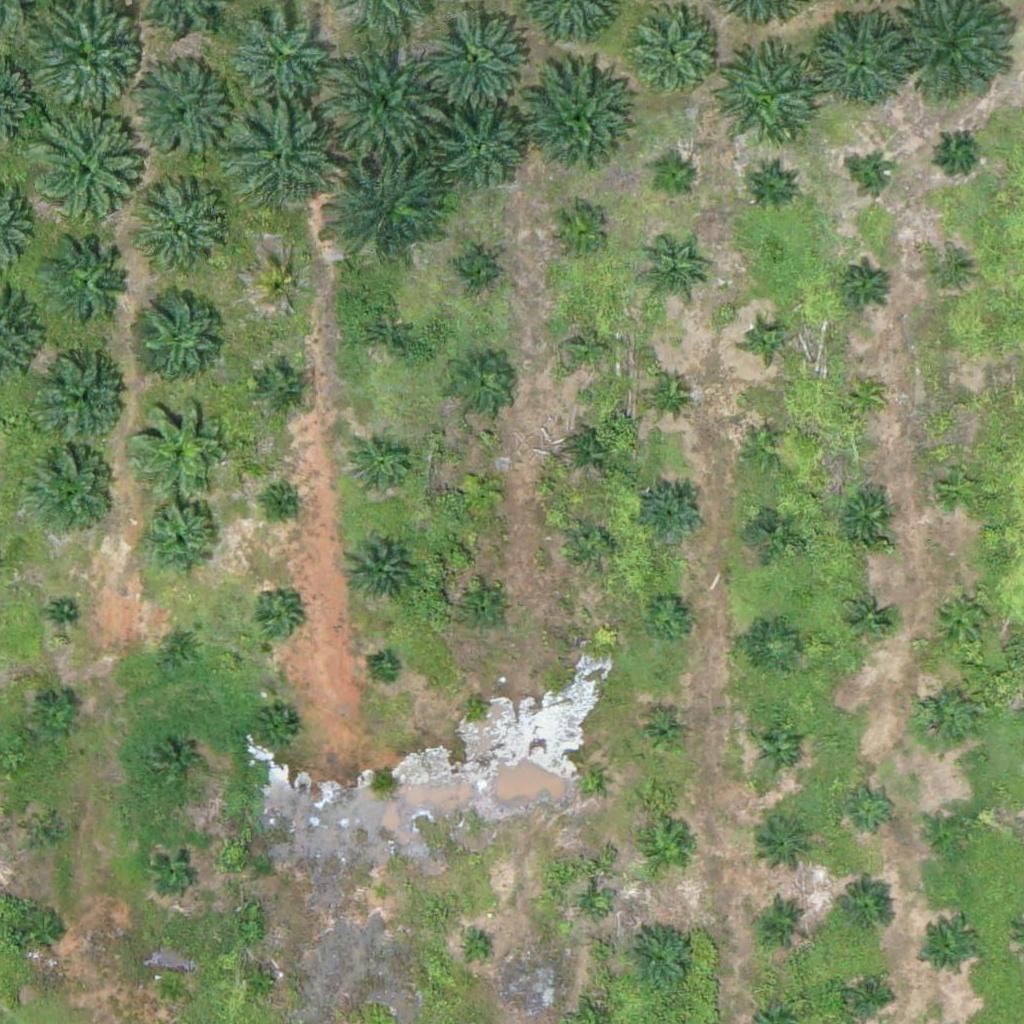Kelapa_Sawit: (320, 35, 445, 161), (328, 146, 453, 272), (21, 112, 146, 237), (519, 66, 632, 180), (228, 104, 341, 217), (708, 48, 820, 161), (809, 9, 909, 110), (623, 3, 723, 104), (232, 5, 332, 106), (131, 60, 231, 161), (129, 395, 229, 496), (142, 189, 230, 278), (136, 496, 224, 584), (438, 107, 526, 195), (27, 445, 115, 533), (39, 353, 127, 441), (46, 240, 134, 328), (136, 285, 223, 373), (621, 920, 696, 996), (342, 532, 417, 608), (755, 813, 818, 876), (640, 246, 703, 309), (546, 200, 609, 263), (913, 684, 976, 747), (642, 482, 705, 545), (557, 317, 620, 380), (834, 882, 897, 945), (918, 920, 980, 983), (450, 355, 512, 418), (350, 434, 412, 497), (837, 486, 899, 549), (931, 587, 993, 650), (354, 304, 416, 367), (23, 905, 73, 956), (749, 621, 799, 672), (747, 503, 797, 554), (567, 425, 617, 476), (643, 368, 693, 419), (568, 519, 618, 570), (447, 246, 497, 297), (456, 465, 506, 516), (644, 592, 694, 643), (842, 592, 892, 643), (928, 805, 978, 856), (846, 782, 896, 833), (754, 724, 804, 775), (257, 363, 307, 413), (747, 161, 797, 211), (643, 826, 693, 876), (841, 259, 891, 309), (937, 463, 987, 513), (740, 423, 790, 473), (648, 156, 698, 206), (462, 586, 512, 636), (844, 971, 894, 1021), (757, 896, 807, 946), (639, 709, 689, 759), (251, 592, 301, 642), (254, 706, 304, 756), (151, 845, 201, 895), (151, 738, 201, 788), (158, 624, 208, 674), (31, 694, 81, 744), (258, 263, 308, 313), (938, 131, 976, 169), (846, 377, 884, 415), (749, 322, 787, 360), (855, 157, 892, 195), (932, 255, 969, 293), (944, 384, 981, 422), (152, 971, 190, 1008), (26, 816, 64, 853), (245, 965, 282, 1003), (371, 655, 396, 681), (576, 766, 601, 791), (581, 894, 606, 919), (464, 937, 489, 962), (464, 693, 489, 718), (272, 491, 297, 516), (370, 882, 395, 907), (50, 601, 74, 626)
